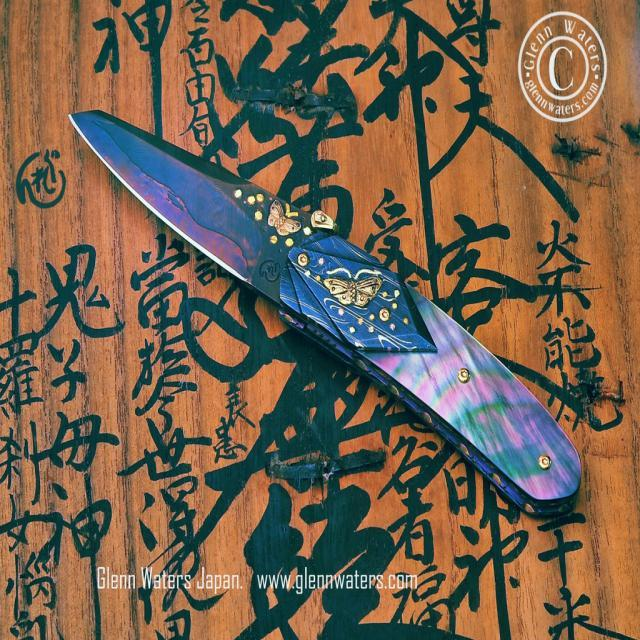Knife: (70, 111, 580, 515)
